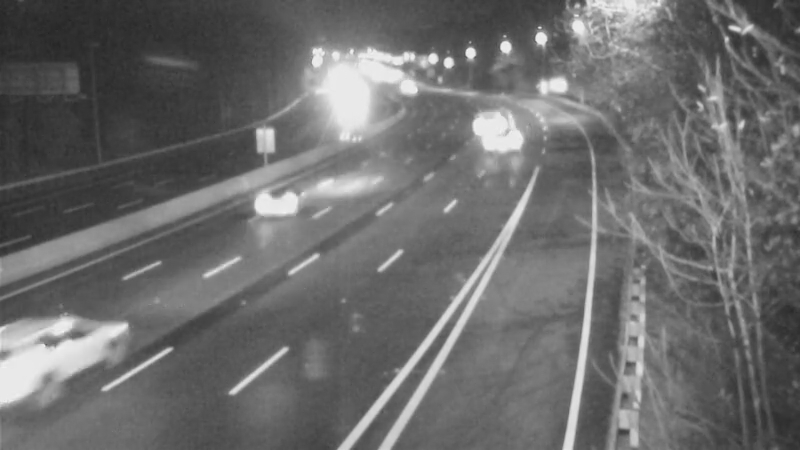vehicle: (1, 306, 104, 416), (233, 170, 313, 250), (384, 65, 434, 115), (456, 92, 506, 142), (470, 123, 520, 173)
